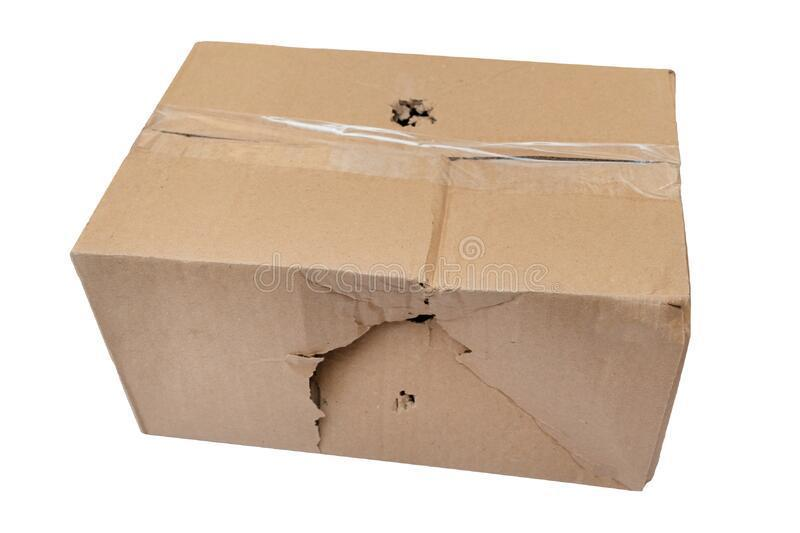damaged package: (290, 281, 615, 489), (383, 86, 444, 129), (386, 383, 421, 417)
undamaged: (45, 30, 705, 500)
